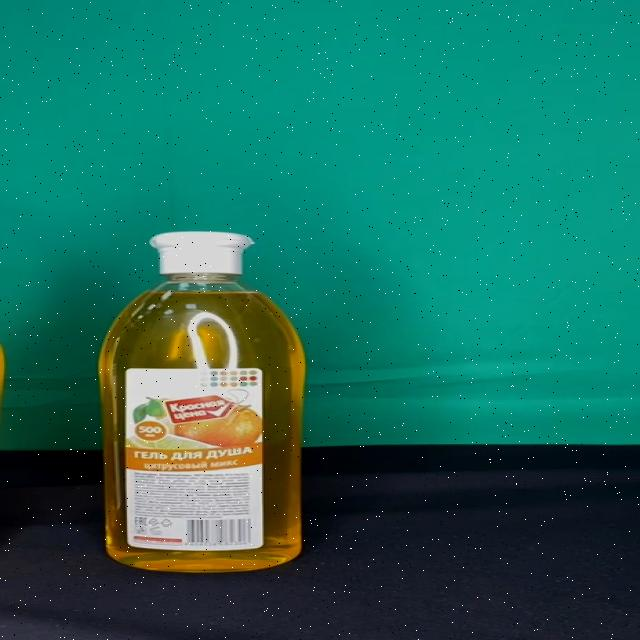Bottle: (97, 232, 308, 572)
Cap: (150, 232, 253, 275)
